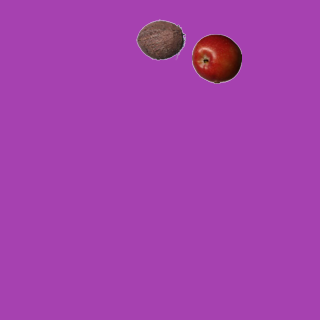Apple Braeburn: (191, 33, 241, 83)
Cocos: (135, 14, 185, 64)
